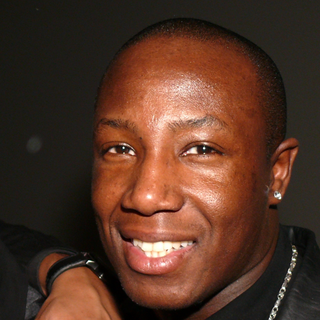eye: (178, 138, 225, 163), (99, 138, 140, 164)
